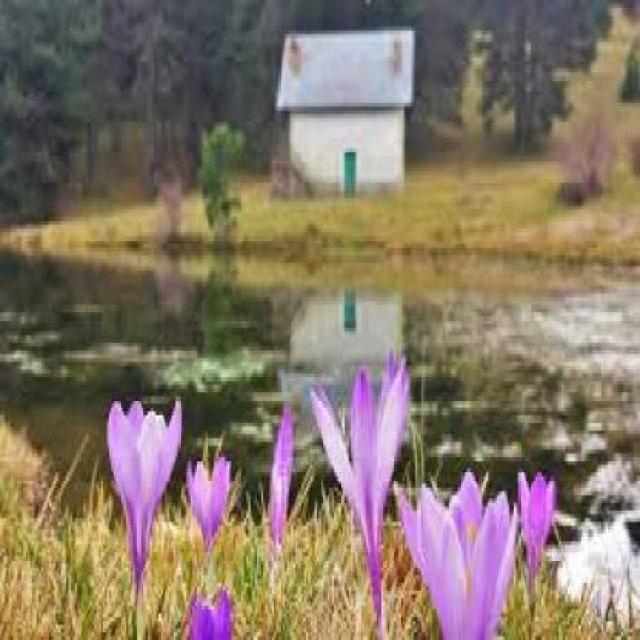saffron open: (312, 349, 409, 631), (400, 472, 516, 638), (108, 399, 179, 591), (518, 472, 555, 582), (187, 456, 230, 549)
